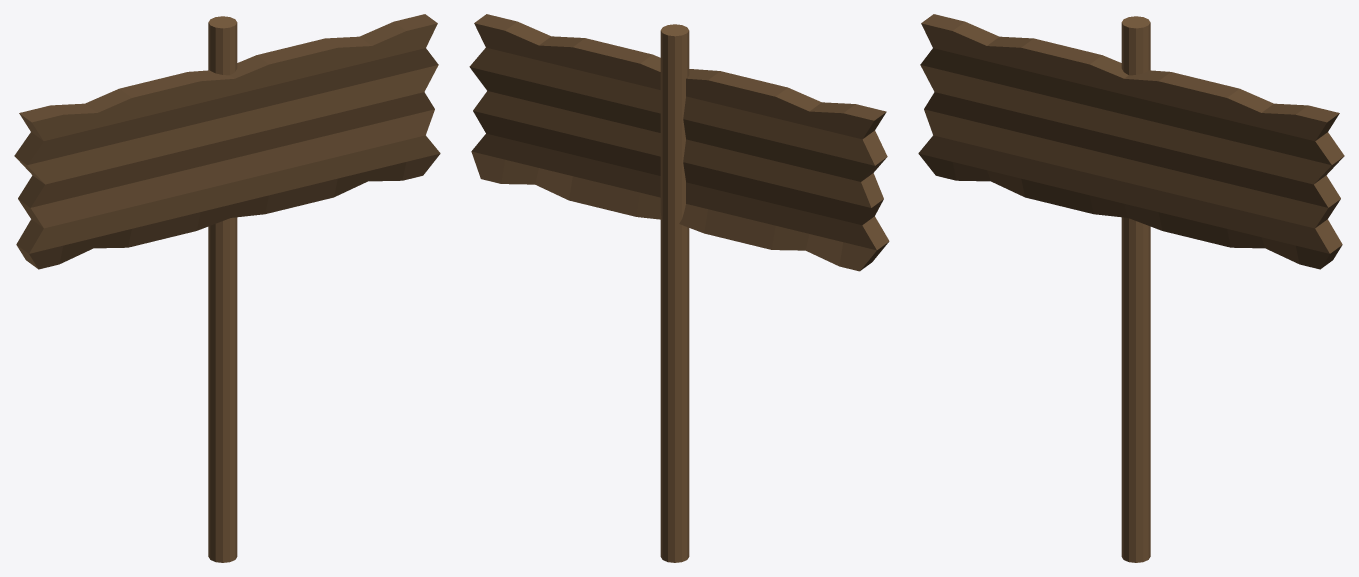
Rendered from sign 2.fbx.
The picture shows the model from 3 angles, left to right: view 1: azimuth 30°, elevation 25°; view 2: azimuth 150°, elevation 25°; view 3: azimuth 330°, elevation 25°; orthographic projection.
Parts seen in each view (by area): view 1: Sign 2; view 2: Sign 2; view 3: Sign 2.
Part boxes in pixels (x1,y1,x2,y2): Sign 2: [14, 14, 440, 562]; Sign 2: [469, 14, 889, 562]; Sign 2: [918, 14, 1344, 562].
Size of the model in its own units: 565 by 700 by 45.48.
